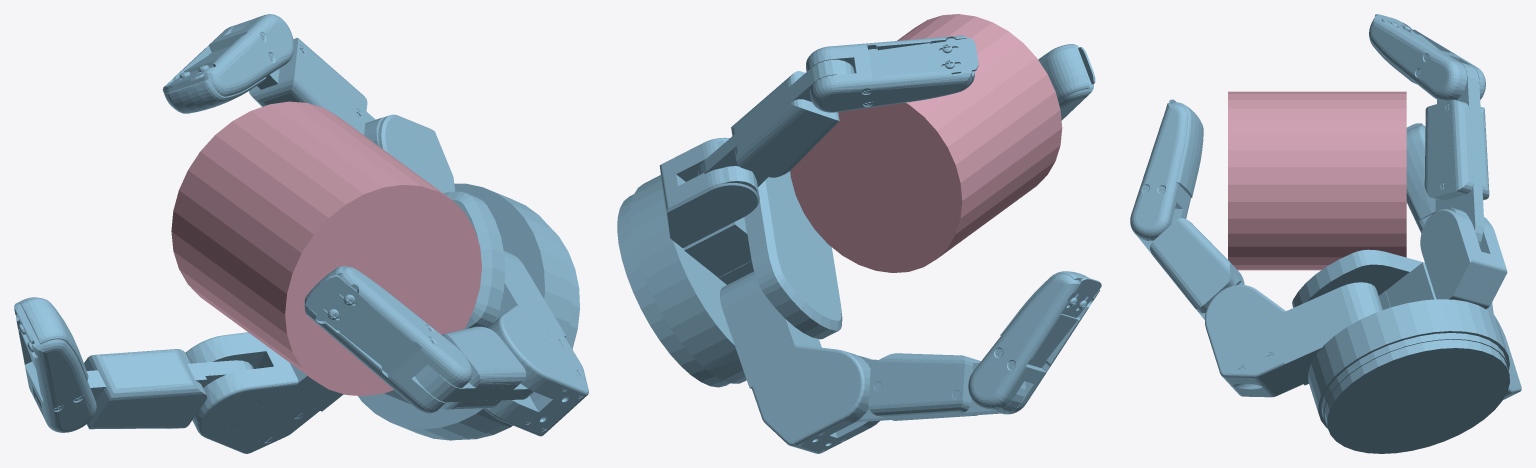
3 views of the same model, side by side, from view 1: azimuth 30°, elevation 25°; view 2: azimuth 150°, elevation 25°; view 3: azimuth 270°, elevation 25° (orthographic). The views are drawn at different scales.
Visible parts, largest first — view 1: world, cylinder_medium.stl; view 2: world, cylinder_medium.stl; view 3: world, cylinder_medium.stl.
Part boxes in pixels (left/top/right/bottom): world: left=14, top=14, right=588, bottom=453; cylinder_medium.stl: left=171, top=101, right=481, bottom=396; world: left=617, top=35, right=1101, bottom=453; cylinder_medium.stl: left=790, top=14, right=1062, bottom=272; world: left=1130, top=14, right=1521, bottom=453; cylinder_medium.stl: left=1228, top=91, right=1406, bottom=270.
Size of the model in its own units: 0.2151 by 0.176 by 0.1753.
